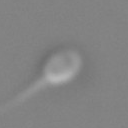normal: (1, 76, 46, 115)
